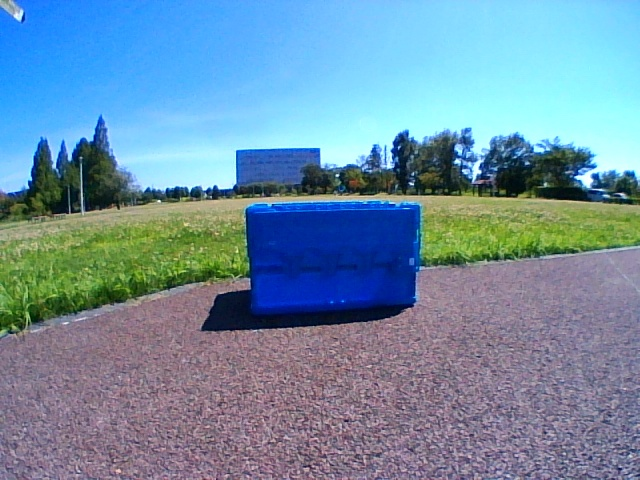blue_box: (245, 201, 421, 314)
